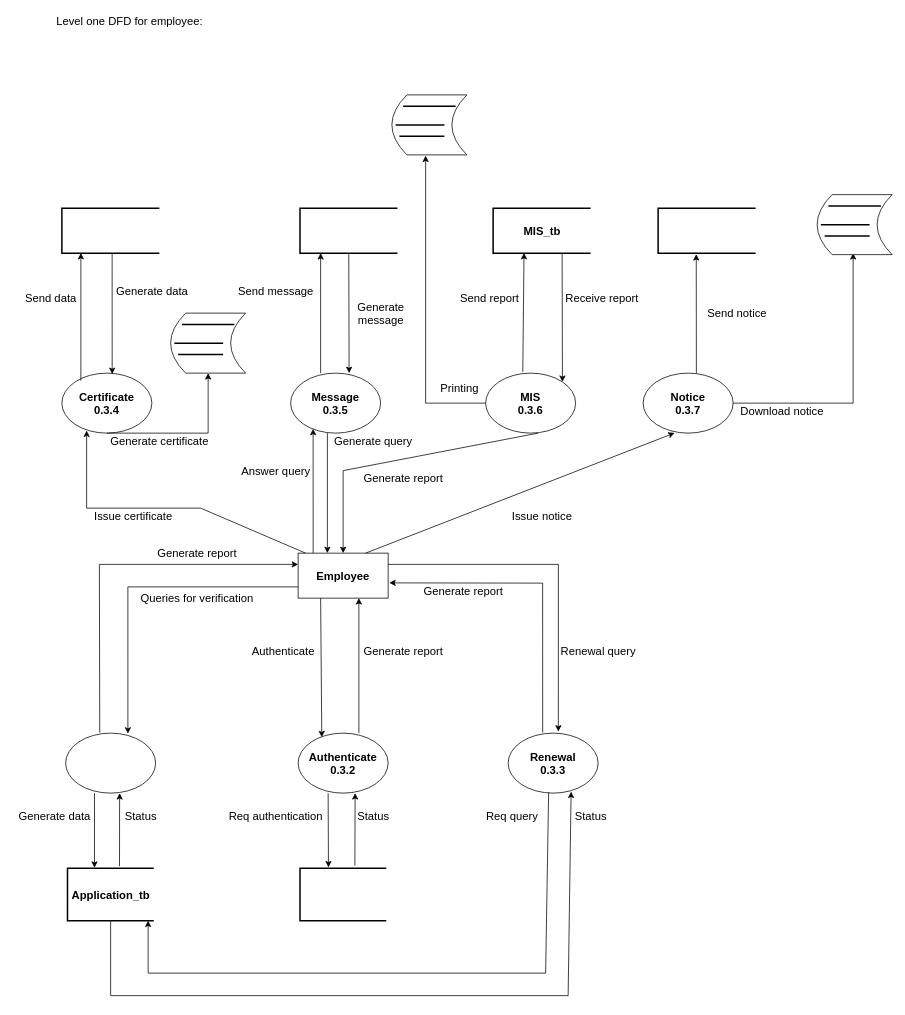
Some shapes in this 905 by 1015 pixel diagram are drawn without their labels. Here are the shapes that lost their labels. From the top down, the centre of each, then its label:
At (110,230): "Certify_tb".
At (348,230): "Msg_tb".
At (706,230): "Notice_tb".
At (110,762): "Verify 0.3.1".
At (343,894): "Auth_emp_tb".
